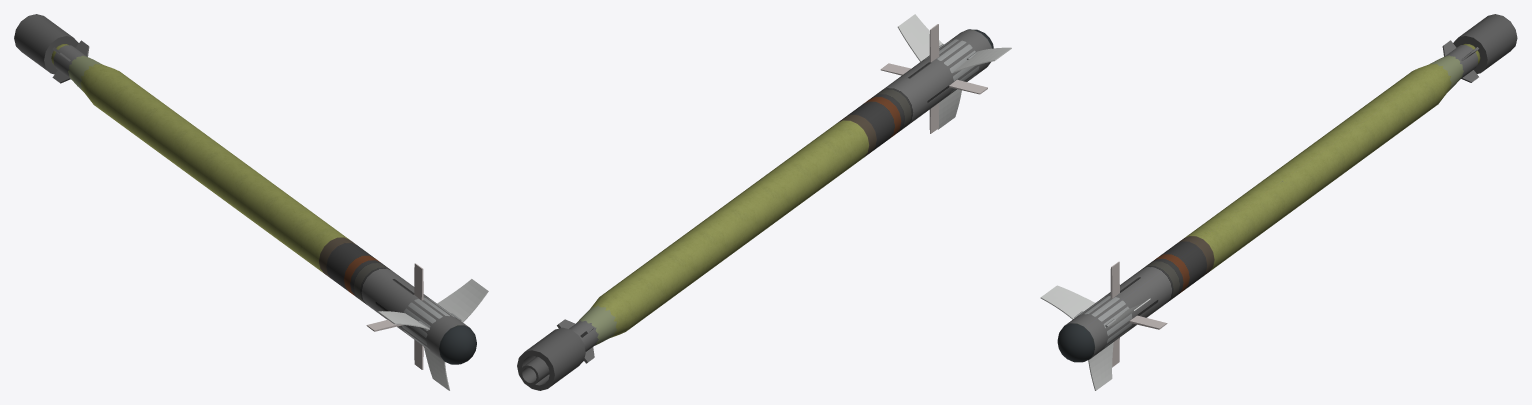
File: ah64_stores.glb
3 renders of one model, left to right at view 1: azimuth 30°, elevation 25°; view 2: azimuth 150°, elevation 25°; view 3: azimuth 330°, elevation 25°, orthographic. The views are drawn at different scales.
Parts seen in each view (by area): view 1: aim92, hydra; view 2: aim92, hydra; view 3: aim92, hydra.
Part boxes in pixels (x1,y1,x2,y2): aim92: (14, 14, 476, 369); hydra: (68, 55, 488, 390); aim92: (517, 24, 993, 390); hydra: (577, 14, 1011, 345); aim92: (1057, 14, 1517, 367); hydra: (1040, 55, 1463, 390).
Bounding box in the file's own units: 0.1956 × 0.2047 × 1.52.
Materials: 8 (1 with a texture image).
